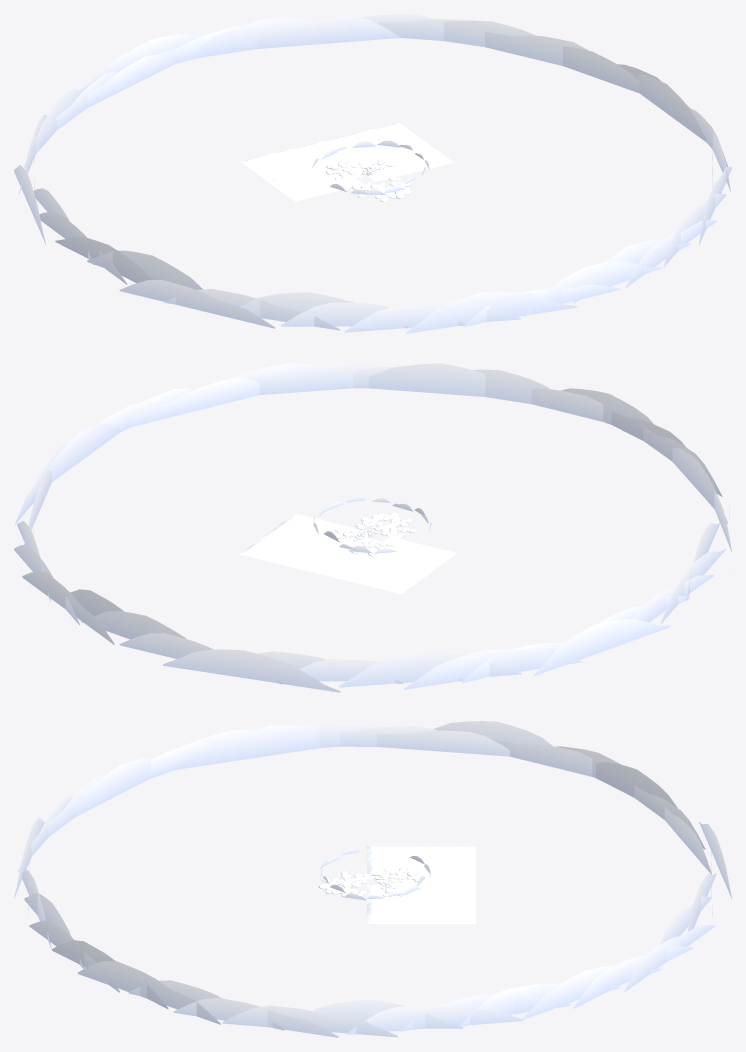
File: transit_clouds_merged.glb
3 views of the same model, one above another, from view 1: azimuth 30°, elevation 25°; view 2: azimuth 150°, elevation 25°; view 3: azimuth 270°, elevation 25° (orthographic). The views are drawn at different scales.
Parts seen in each view (by area): view 1: clouds_horizon, clouds_floor, clouds_far, clouds_city_sea; view 2: clouds_horizon, clouds_floor, clouds_city_sea, clouds_far; view 3: clouds_horizon, clouds_floor, clouds_city_sea, clouds_far.
Boxes of the visible parts, <box> form: clouds_horizon: <box>14,14,731,333</box>; clouds_floor: <box>240,122,454,201</box>; clouds_far: <box>311,140,429,194</box>; clouds_city_sea: <box>351,177,411,201</box>; clouds_horizon: <box>14,362,731,692</box>; clouds_floor: <box>239,513,457,593</box>; clouds_city_sea: <box>355,512,416,538</box>; clouds_far: <box>313,496,431,553</box>; clouds_horizon: <box>14,721,731,1037</box>; clouds_floor: <box>367,846,475,923</box>; clouds_city_sea: <box>318,871,369,897</box>; clouds_far: <box>319,848,430,900</box>.
Bounding box in the file's own units: 3261 × 151 × 3289.
